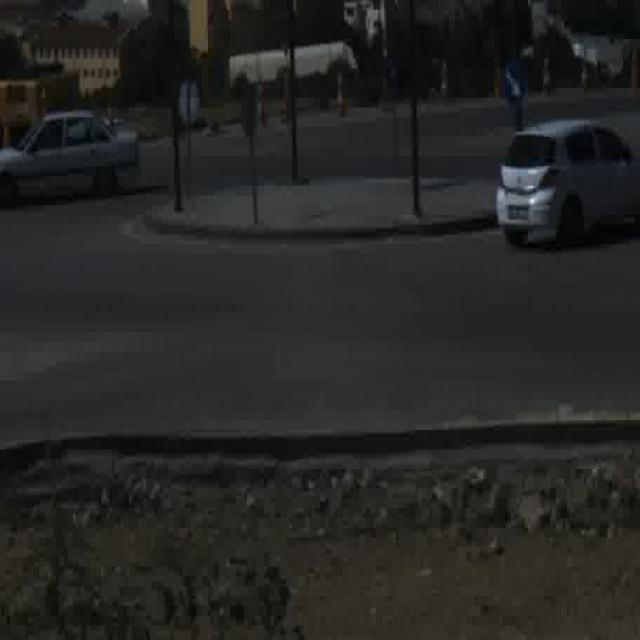Car: (492, 116, 639, 248), (0, 105, 136, 195)
